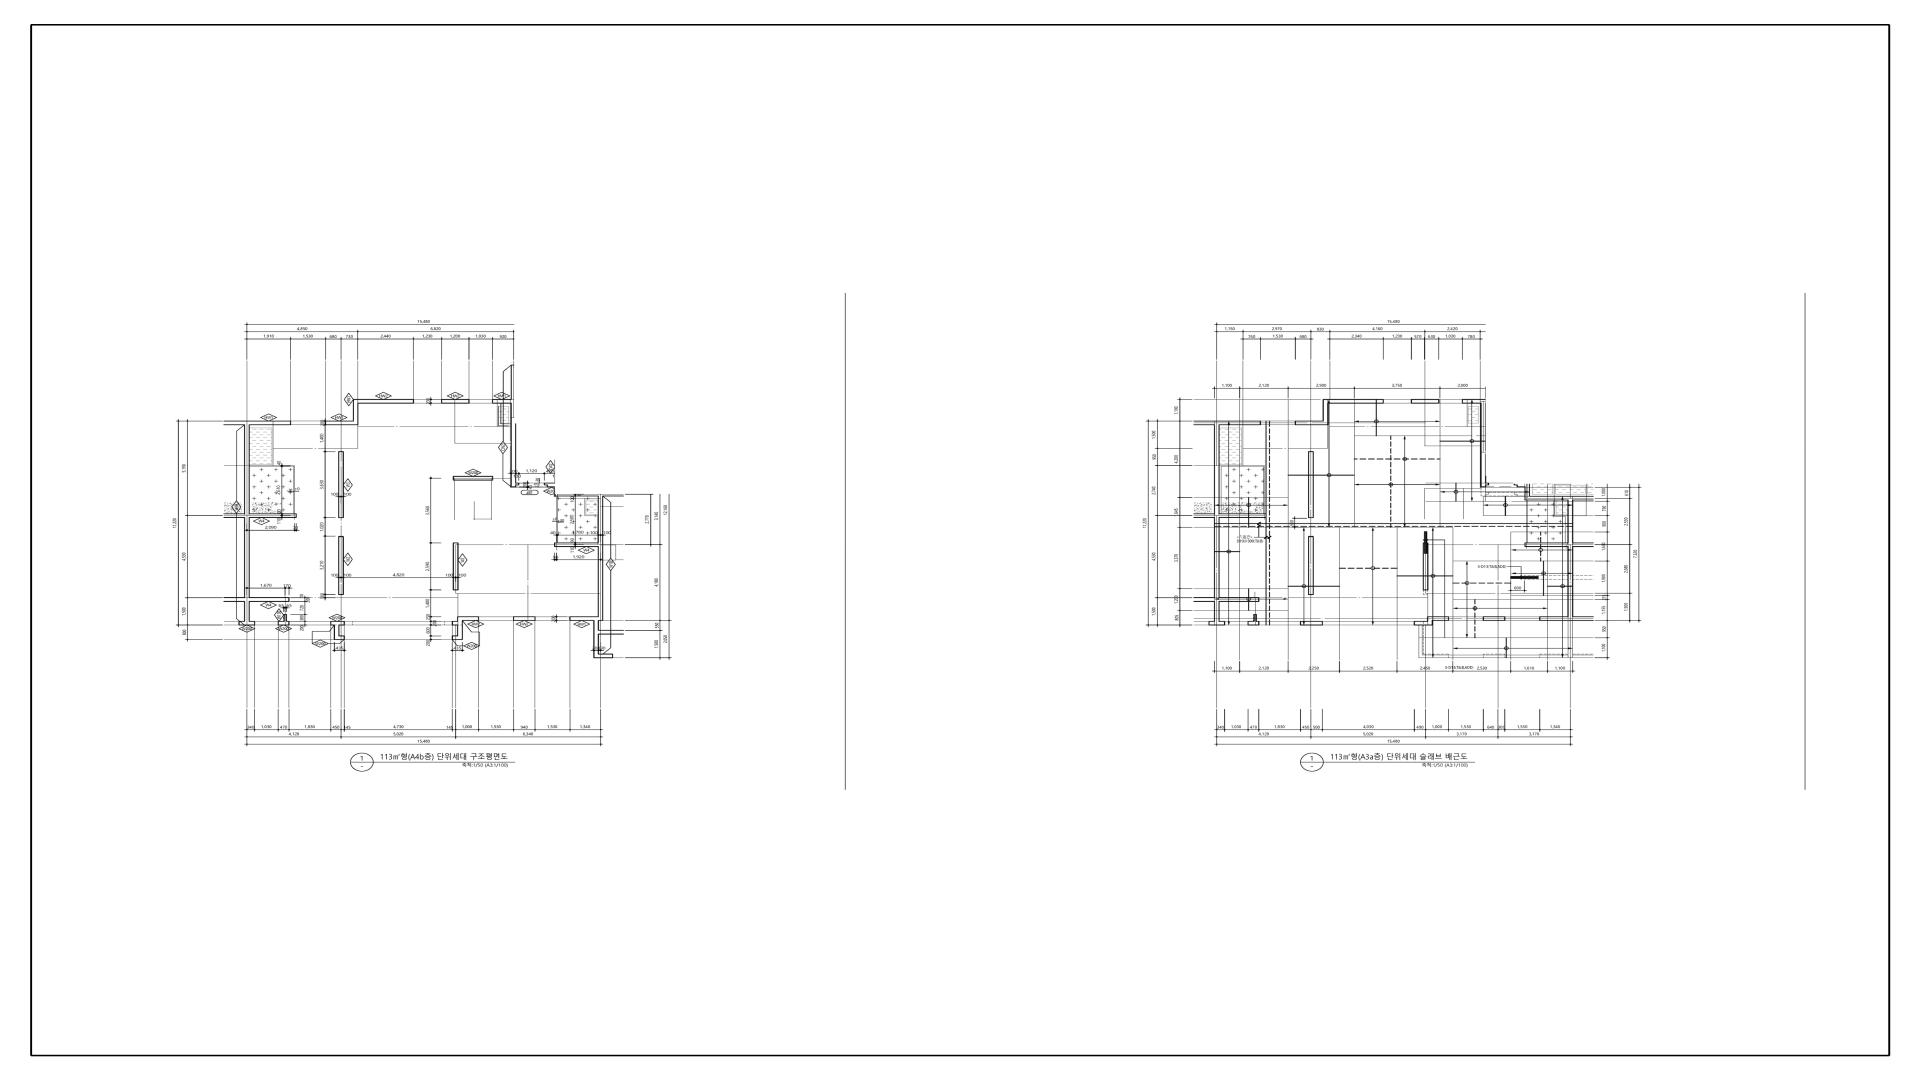wall: (1266, 524, 1573, 526), (1480, 404, 1486, 487), (244, 425, 249, 513), (1215, 425, 1220, 513), (244, 518, 249, 597), (510, 423, 517, 487), (1266, 421, 1270, 524), (1266, 526, 1270, 625), (1423, 655, 1568, 658), (1215, 526, 1220, 597), (597, 547, 603, 617), (1568, 547, 1573, 616), (339, 451, 344, 518), (1308, 451, 1313, 518), (452, 543, 459, 591), (339, 537, 344, 595), (1308, 537, 1313, 595), (597, 496, 604, 542), (554, 542, 604, 547), (1423, 542, 1428, 591), (249, 513, 297, 518), (1220, 513, 1266, 518), (353, 400, 414, 404), (1323, 400, 1383, 404), (1524, 542, 1568, 547), (452, 476, 493, 481), (1220, 597, 1259, 603), (1568, 621, 1573, 658), (1524, 496, 1568, 500), (249, 421, 291, 425), (249, 597, 290, 601), (1220, 421, 1261, 425), (1539, 616, 1568, 621), (510, 365, 514, 400), (1215, 524, 1266, 526), (570, 617, 603, 621), (1419, 625, 1423, 658), (1568, 500, 1573, 524), (593, 630, 624, 634), (513, 616, 535, 621), (1427, 616, 1449, 621), (1484, 616, 1506, 621), (324, 421, 353, 425), (1411, 400, 1440, 404), (223, 513, 244, 518), (223, 597, 244, 603), (353, 404, 359, 425), (1193, 513, 1215, 518), (1193, 597, 1215, 603), (1573, 616, 1594, 621), (1573, 496, 1594, 501), (1323, 404, 1328, 425), (442, 400, 469, 404), (1295, 421, 1323, 425), (244, 601, 249, 621), (593, 634, 599, 654), (1215, 601, 1220, 621), (1462, 400, 1486, 404), (1568, 526, 1573, 543), (492, 400, 514, 404), (1300, 621, 1323, 625), (223, 421, 244, 425), (458, 617, 479, 621), (1193, 421, 1215, 425), (1573, 543, 1594, 547), (593, 654, 613, 658), (510, 404, 514, 423), (458, 621, 463, 636), (1510, 576, 1539, 579), (1414, 621, 1432, 625), (1208, 621, 1225, 625), (239, 621, 255, 625), (1524, 484, 1530, 496), (334, 625, 339, 636), (603, 495, 624, 497), (555, 495, 597, 496), (331, 621, 344, 625), (1573, 655, 1593, 658), (593, 621, 599, 630), (278, 621, 290, 625), (334, 636, 345, 640), (543, 483, 555, 487), (1247, 621, 1259, 625), (452, 636, 463, 640), (244, 513, 249, 518), (1215, 513, 1220, 518), (1215, 518, 1220, 524), (1215, 597, 1220, 603), (1568, 616, 1573, 621), (1568, 542, 1573, 547), (284, 615, 287, 621), (244, 421, 249, 425), (244, 597, 249, 601), (452, 621, 458, 625), (1215, 421, 1220, 425), (1568, 496, 1573, 500), (1254, 615, 1257, 621), (597, 495, 604, 496), (1486, 483, 1489, 485)
